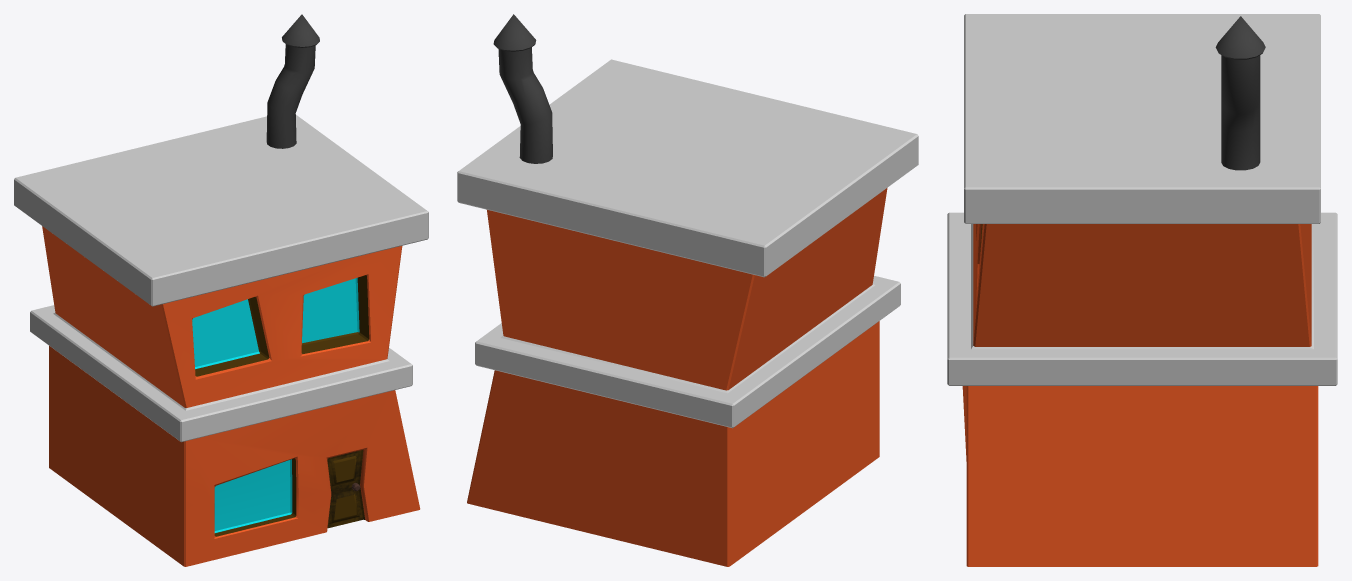
Rendered from PredioPequeno-LaranjaLOD0.fbx.
3 views of the same model, side by side, from view 1: azimuth 30°, elevation 25°; view 2: azimuth 150°, elevation 25°; view 3: azimuth 270°, elevation 25° (orthographic). The views are drawn at different scales.
Visible parts, largest first — view 1: Predio2Andares; view 2: Predio2Andares; view 3: Predio2Andares.
Boxes of the visible parts, x1=… form: Predio2Andares: x1=14, y1=14, x2=428, y2=566; Predio2Andares: x1=457, y1=14, x2=918, y2=566; Predio2Andares: x1=947, y1=14, x2=1337, y2=566.
Size of the model in its own units: 715 by 1035 by 675.
